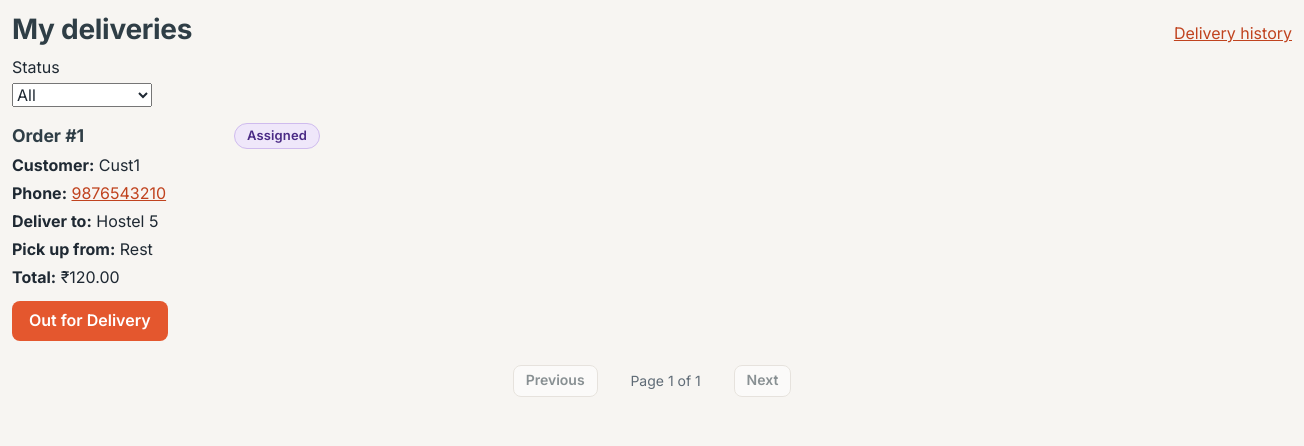
Test case: PartnerDashboard › shows 409 error inline and reloads the list
This screenshot has width=1304, height=446.
Click the button "Out for Delivery": coordinates (90, 320) left=12, top=300, right=168, bottom=340
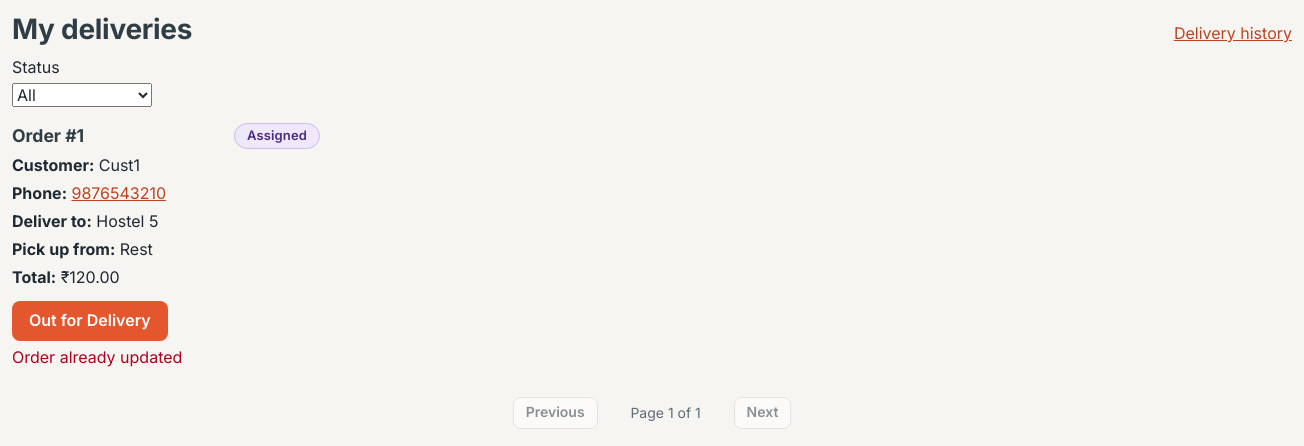
Result: the text "Order already updated" is shown at left=12, top=346, right=182, bottom=366
